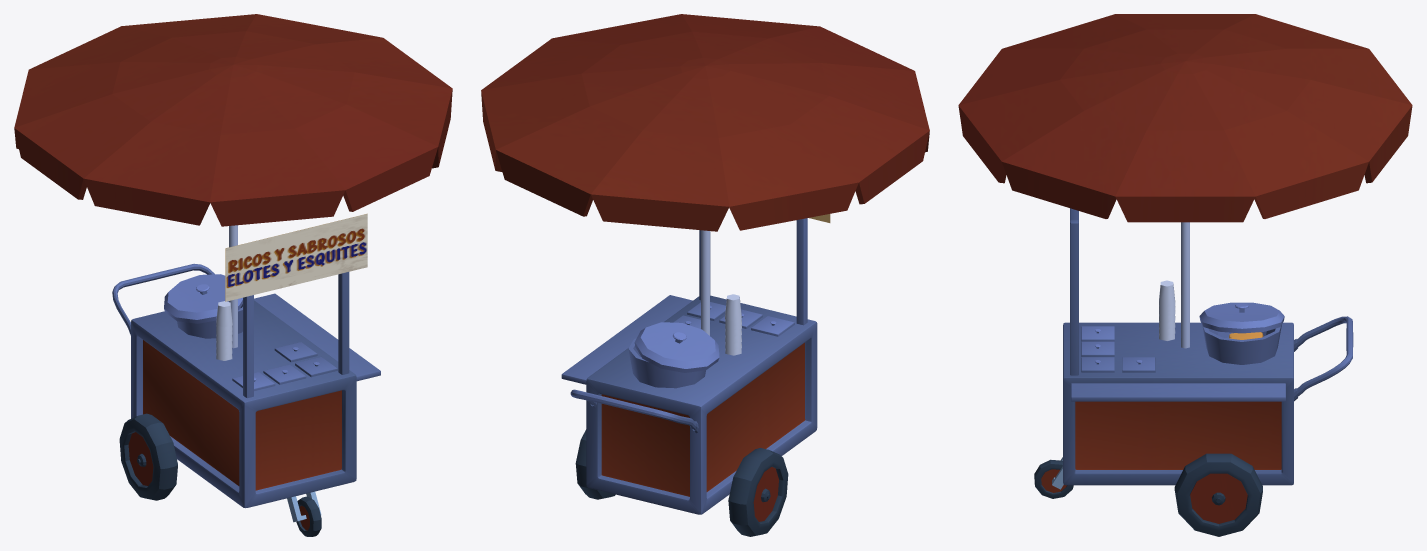
The model's file is MSH_PuestoElotes.fbx.
The picture shows the model from 3 angles, left to right: view 1: azimuth 30°, elevation 25°; view 2: azimuth 150°, elevation 25°; view 3: azimuth 270°, elevation 25°; orthographic projection. The views are drawn at different scales.
Visible parts, largest first — view 1: Parasol, Object005, Plane008; view 2: Parasol, Object005; view 3: Parasol, Object005.
Boxes of the visible parts, x1,y1,x2,y2 form: Parasol: (14, 14, 452, 536); Object005: (112, 225, 380, 530); Plane008: (225, 214, 367, 301); Parasol: (481, 14, 929, 536); Object005: (561, 218, 817, 521); Parasol: (958, 14, 1412, 536); Object005: (1041, 208, 1353, 523).
Size of the model in its own units: 130 by 144 by 137.
